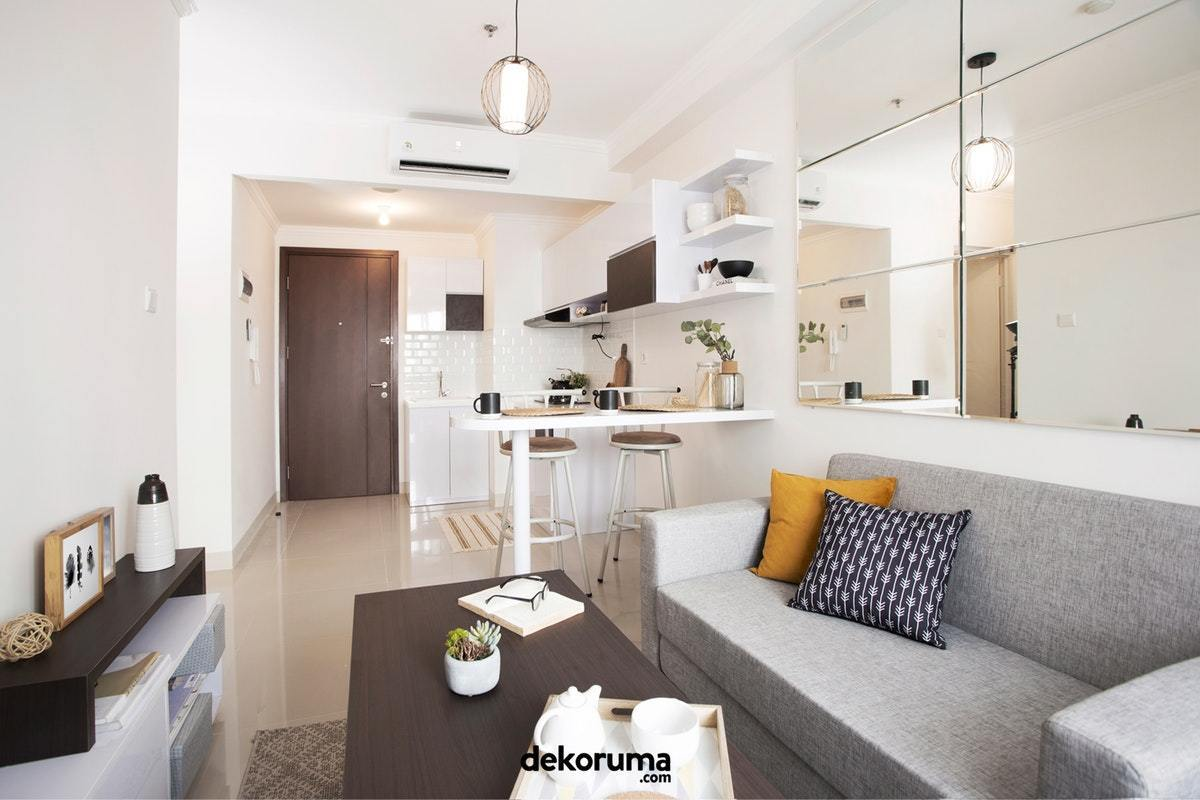bantal: (812, 492, 953, 639), (765, 467, 883, 580)
buku: (457, 577, 584, 630)
gelas: (627, 695, 705, 775), (470, 388, 504, 415)
kursi: (501, 441, 598, 598), (598, 430, 695, 587)
lukisan: (43, 512, 106, 619)
meja: (346, 568, 788, 800)
sova: (641, 453, 1189, 800)
tanaman: (681, 313, 754, 409), (441, 626, 512, 698)
